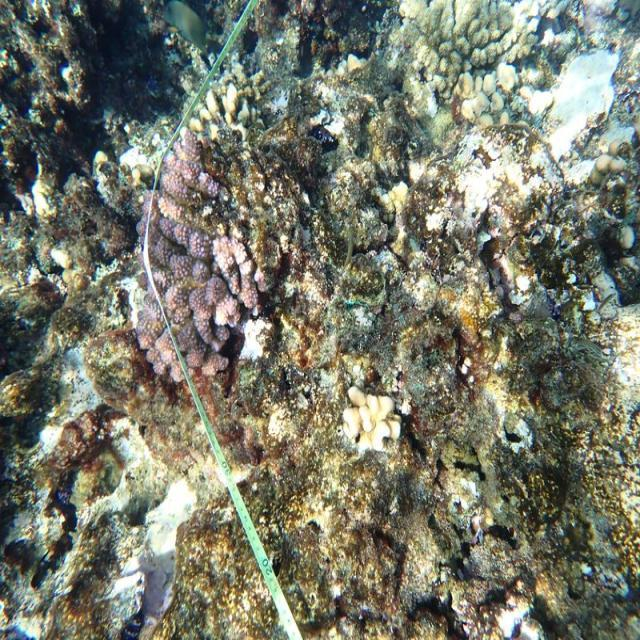Bleached Coral: (516, 40, 627, 182), (117, 458, 202, 640), (435, 127, 530, 234), (341, 383, 412, 463), (236, 307, 276, 377)
Healthy Coral: (148, 138, 244, 381)
